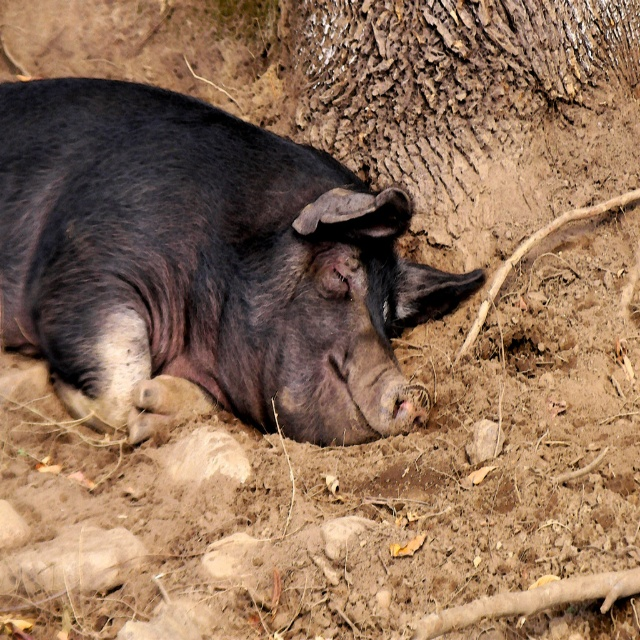Pig: (0, 76, 488, 446)
